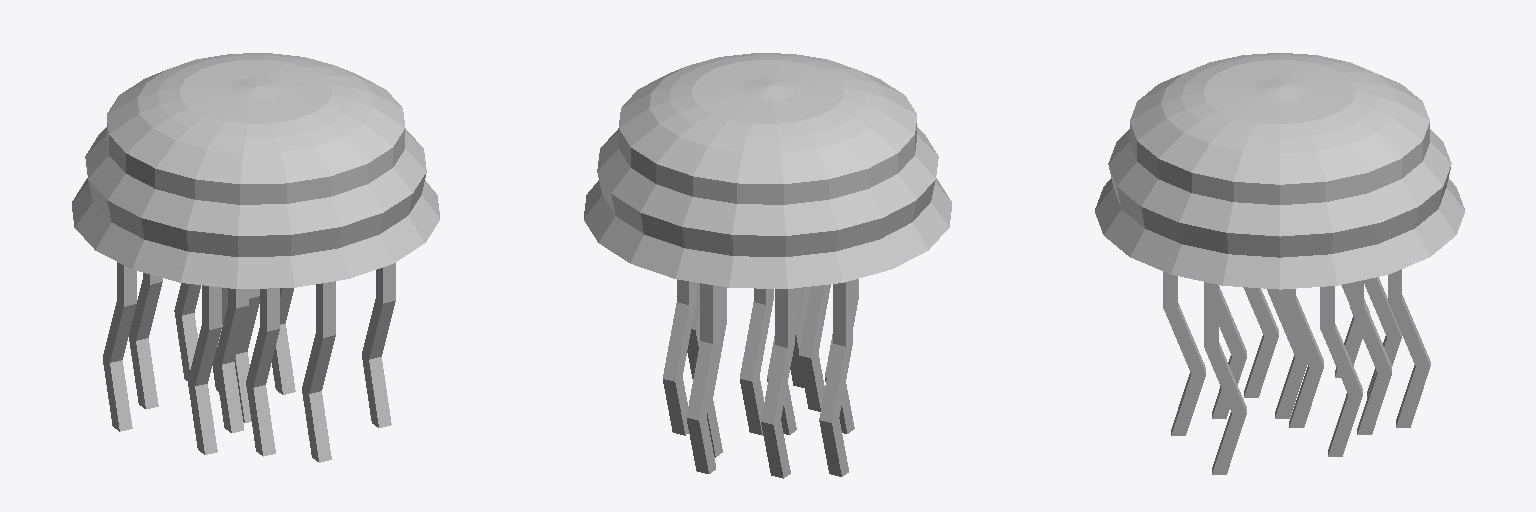
File: JellyFishOBJ.obj
The picture shows the model from 3 angles: view 1: azimuth 30°, elevation 25°; view 2: azimuth 150°, elevation 25°; view 3: azimuth 270°, elevation 25°; orthographic projection.
Visible parts, largest first — view 1: pSphere2; view 2: pSphere2; view 3: pSphere2.
Part boxes in pixels (x1,y1,x2,y2): pSphere2: (72, 53, 439, 462); pSphere2: (584, 53, 951, 478); pSphere2: (1095, 53, 1464, 474).
Size of the model in its own units: 2.2 by 2.21 by 2.2.